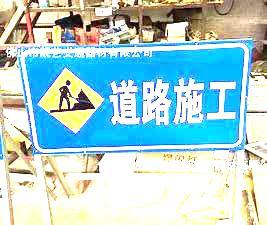sign: (19, 47, 245, 148)
